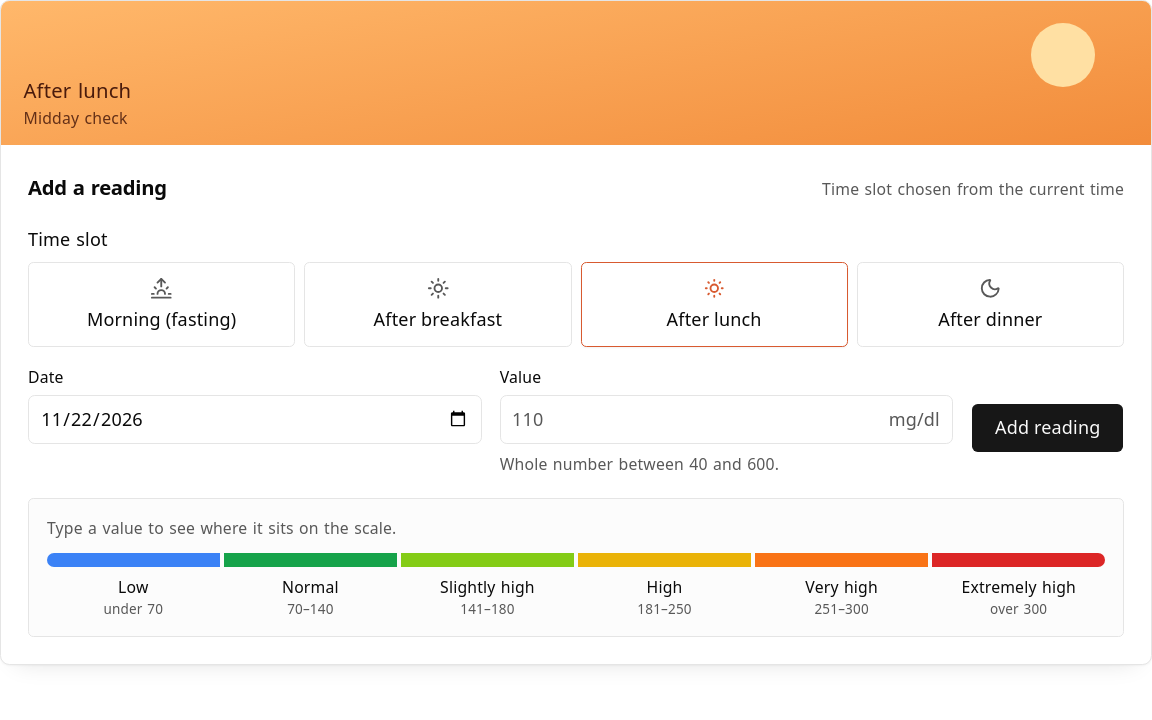
AddReadingCard: checks in the browser (no request is sent) › asks for a value when the field is empty
The width and height of the screenshot is (1152, 720).
Click the button "Add reading" at x=1048, y=428, box [972,403,1124,452]
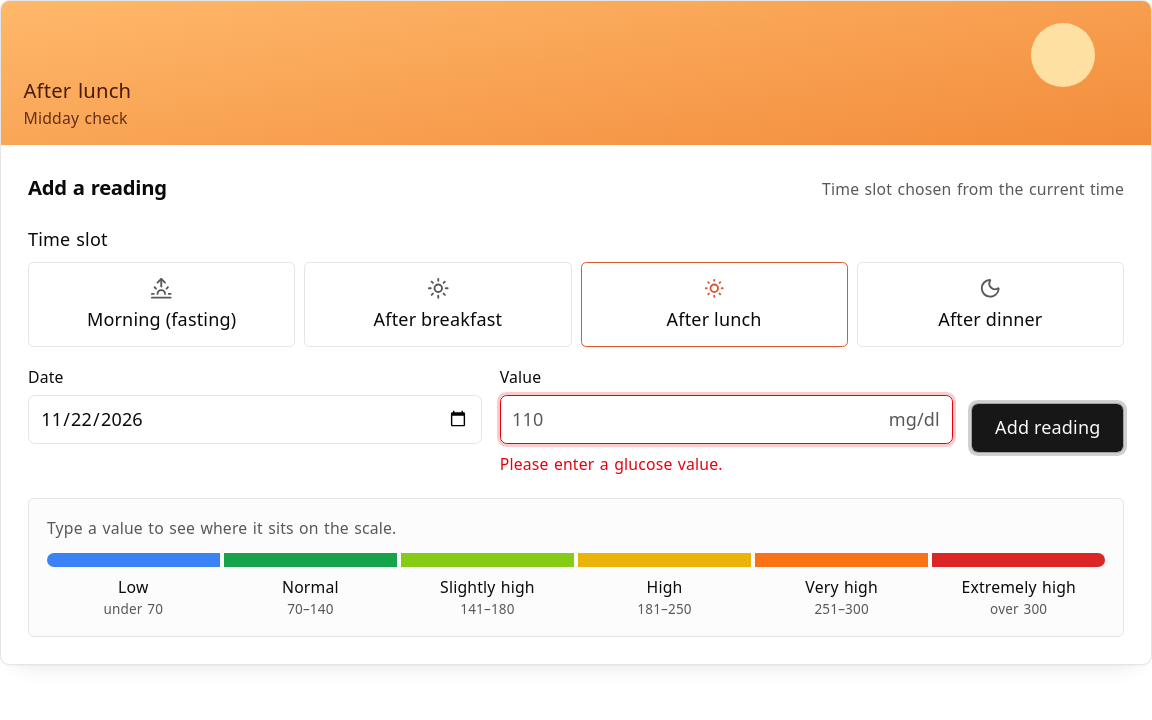
Check: the text "Please enter a glucose value." is shown, box [500,453,723,475]
